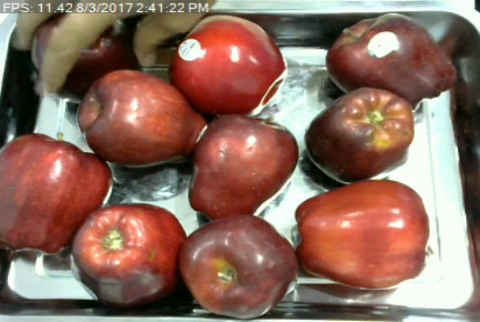Apple: (291, 178, 431, 292), (0, 131, 116, 259), (76, 66, 209, 170), (175, 211, 301, 320), (323, 9, 459, 109), (166, 12, 290, 120), (186, 109, 302, 223), (68, 198, 185, 304), (303, 85, 416, 184)
